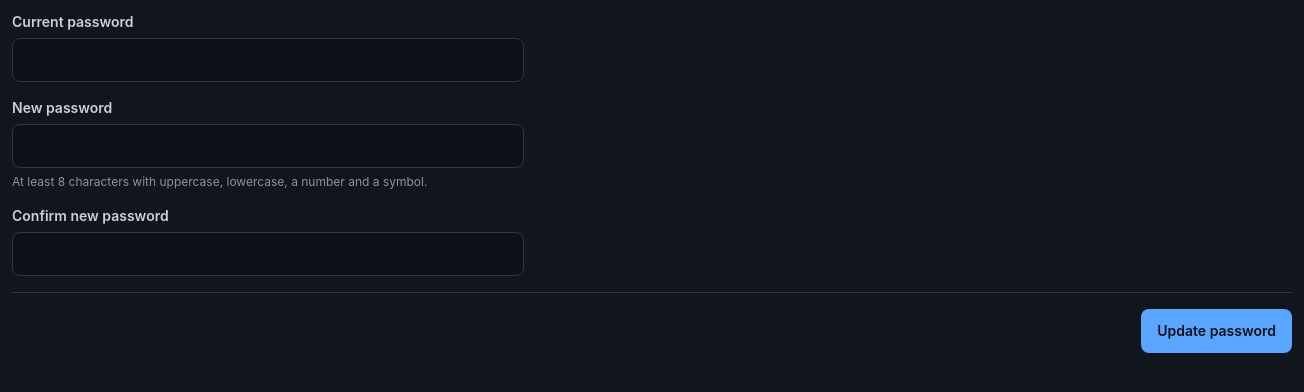
rejects mismatched password confirmation without sending a request
Type "OldPassword1!" into the password field labelled "Current password" at point(268, 60), box [12, 38, 524, 82]
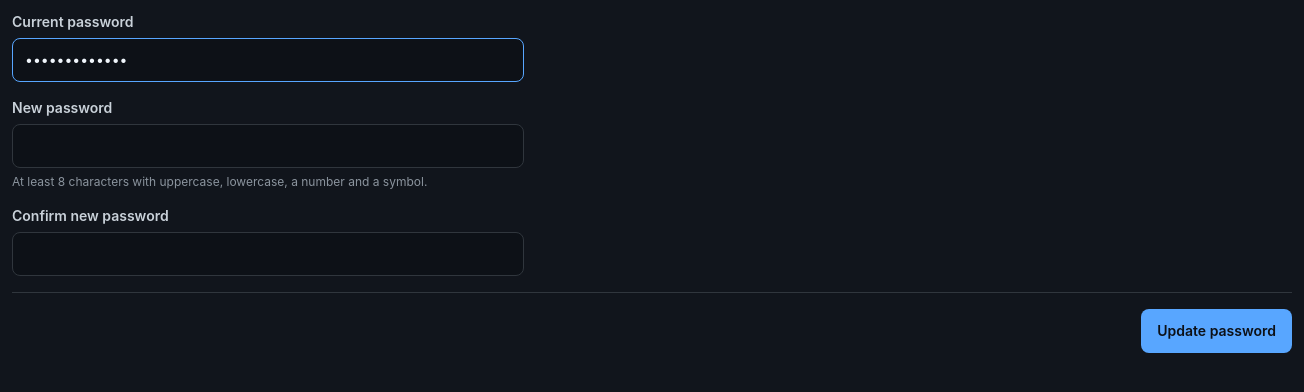
Type "NewPassword1!" into the password field labelled "New password" at point(268, 146), box [12, 124, 524, 168]
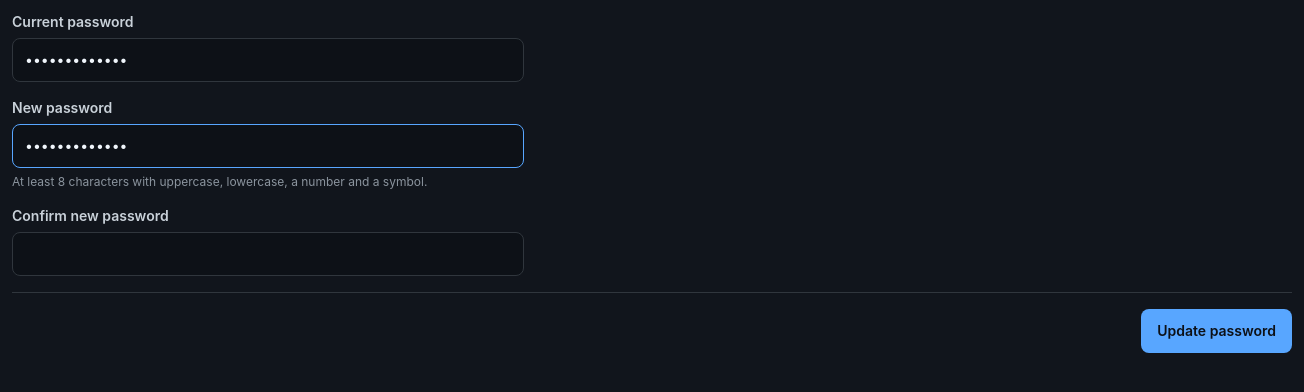
Type "Different1!" into the password field labelled "Confirm new password" at point(268, 254), box [12, 232, 524, 276]
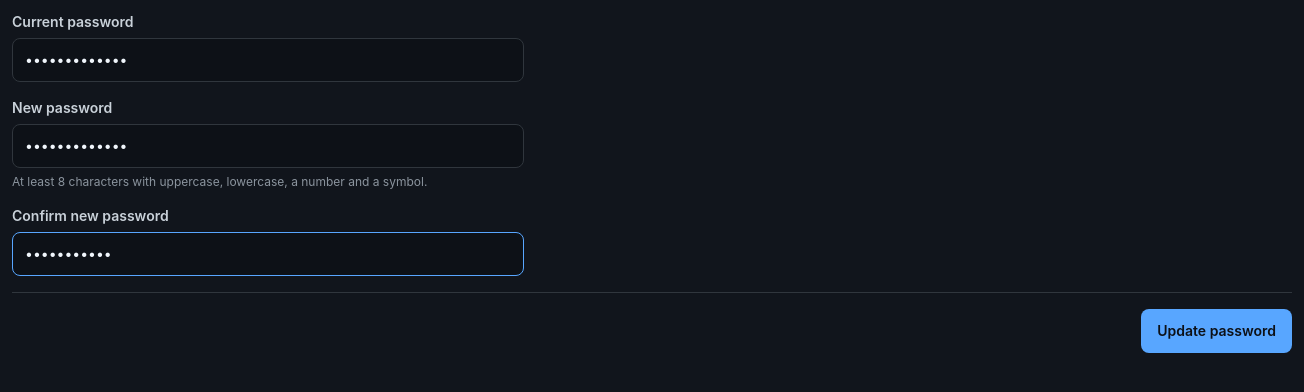
Click the button "Update password" at point(1217, 331), box [1141, 309, 1292, 353]
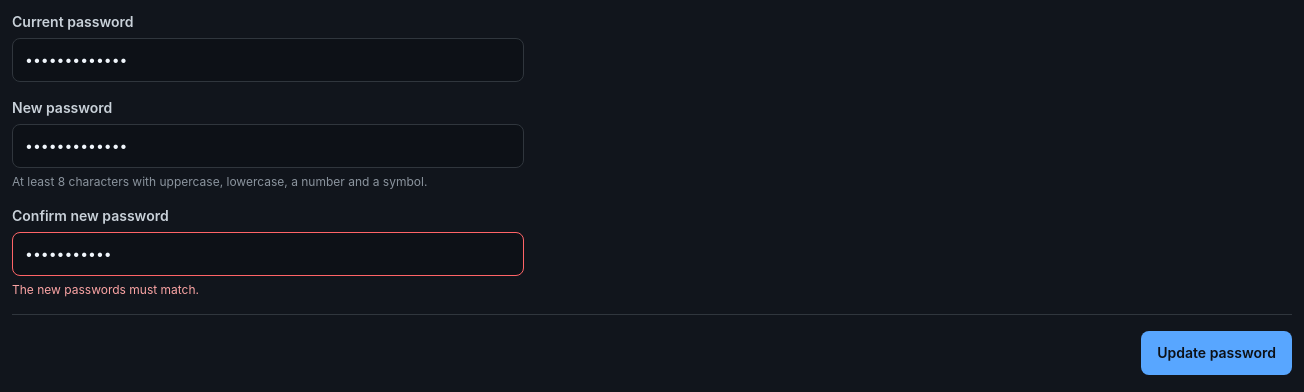
Check: the text "The new passwords must match." is shown, box [12, 282, 199, 297]
